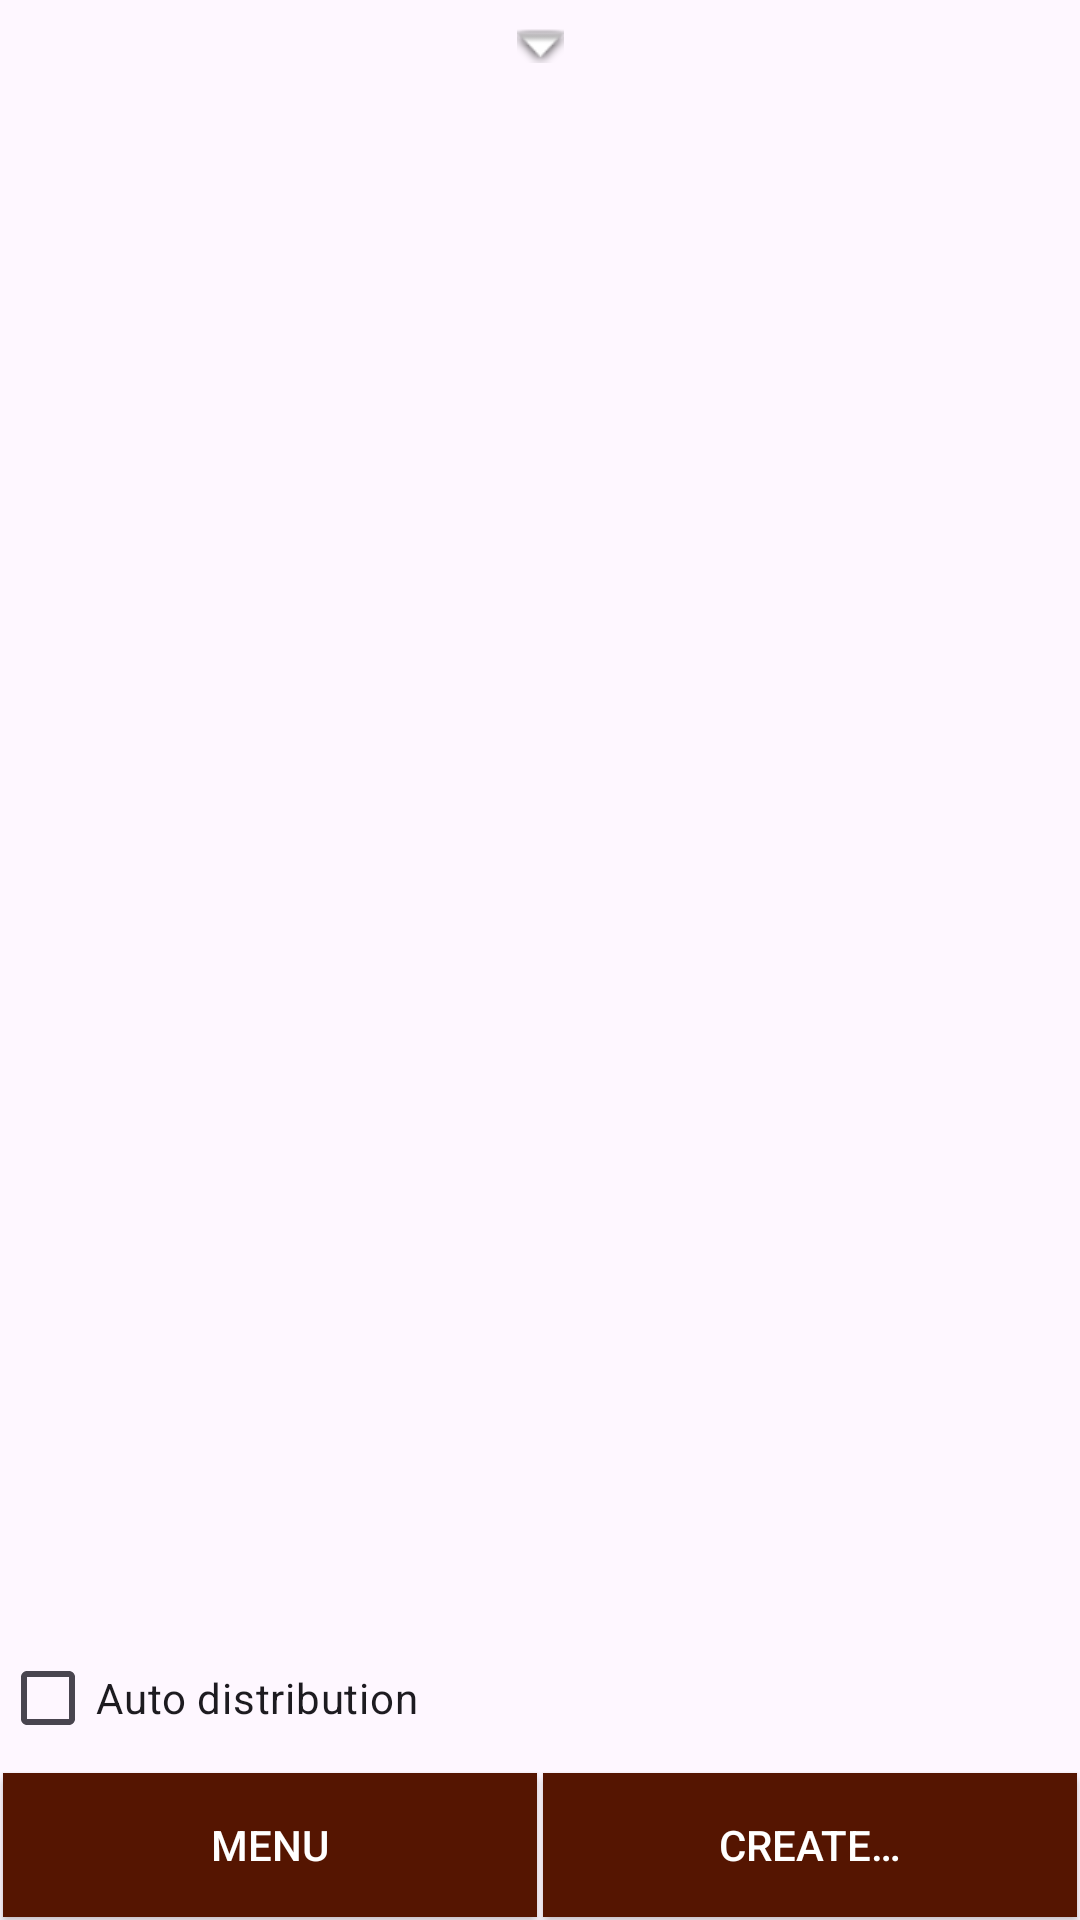

Icon bounding boxes for this 1080*1920 phone screenshot, format detection(x1, y1, x2, y2):
arrow down float: detection(517, 30, 564, 62)
